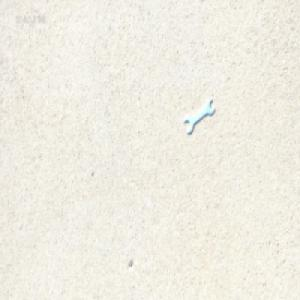Wrench: (183, 98, 214, 133)
